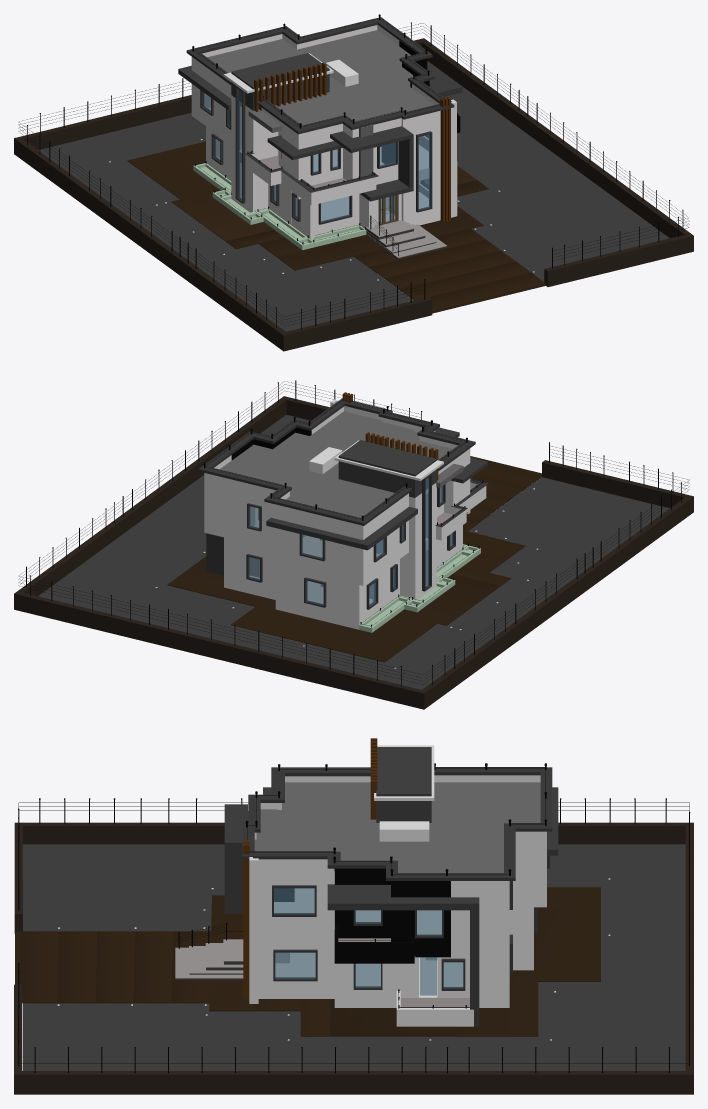
Rendered from house1.glb.
3 renders of one model, top to bottom at view 1: azimuth 30°, elevation 25°; view 2: azimuth 150°, elevation 25°; view 3: azimuth 270°, elevation 25°, orthographic. The views are drawn at different scales.
Visible parts, largest first — view 1: Rectangle007, Line055, Line061, Line015, Line009, Line025, Line017, Box023, Box007, Line012, Line013, Line003 (+22 smaller); view 2: Rectangle007, Line055, Line061, Line015, Line012, Line025, Line001, Line011, Box007, Line002, Box023, Line013 (+12 smaller); view 3: Rectangle007, Line061, Line055, Line015, Line003, Line025, Line011, Line009, Line010, Line023, Box007, Line018 (+23 smaller).
Boxes of the visible parts, <box> form: Rectangle007: <box>38,61,669,331</box>; Line055: <box>14,38,693,351</box>; Line061: <box>127,141,547,313</box>; Line015: <box>207,30,434,132</box>; Line009: <box>261,84,456,199</box>; Line025: <box>186,17,454,134</box>; Line017: <box>330,126,413,201</box>; Box023: <box>193,163,366,250</box>; Box007: <box>231,53,329,110</box>; Line012: <box>191,34,282,144</box>; Line013: <box>231,95,297,178</box>; Line003: <box>398,161,457,225</box>; Rectangle007: <box>38,414,669,689</box>; Line055: <box>14,396,693,709</box>; Line061: <box>167,456,541,662</box>; Line015: <box>219,411,463,517</box>; Line012: <box>274,493,408,585</box>; Line025: <box>198,398,475,525</box>; Line001: <box>275,559,399,629</box>; Line011: <box>204,455,305,563</box>; Box007: <box>338,440,436,497</box>; Line002: <box>224,537,275,599</box>; Box023: <box>359,544,480,632</box>; Line013: <box>409,453,468,553</box>; Rectangle007: <box>23,844,685,1070</box>; Line061: <box>15,887,600,1036</box>; Line055: <box>14,822,693,1094</box>; Line015: <box>254,782,540,872</box>; Line003: <box>249,929,416,1007</box>; Line025: <box>242,767,552,880</box>; Line011: <box>451,831,546,957</box>; Line009: <box>249,776,370,934</box>; Line010: <box>334,868,450,957</box>; Line023: <box>327,884,479,1026</box>; Box007: <box>376,747,431,822</box>; Line018: <box>275,953,462,995</box>.
Bounding box in the file's own units: 26.92 × 8.7 × 30.69.
